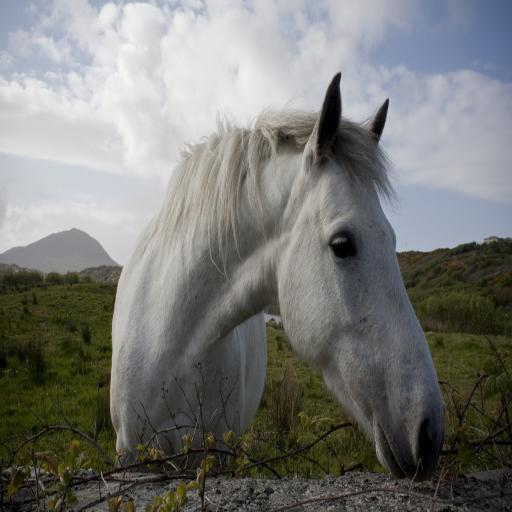horse: (109, 74, 444, 476)
